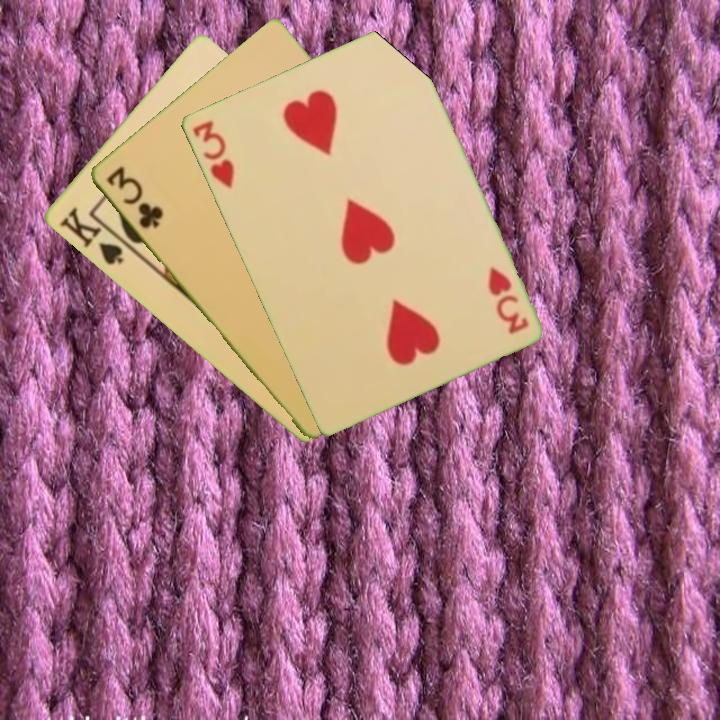3c: (102, 162, 166, 232)
3h: (188, 116, 237, 191), (483, 262, 531, 337)
Ks: (55, 203, 134, 268)
